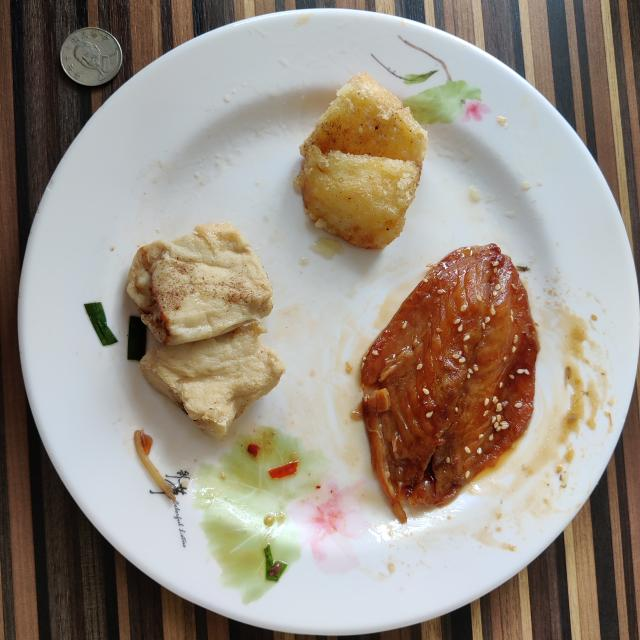Kabayaki sea bream fillet: (361, 244, 539, 522)
coin: (60, 28, 122, 86)
creamy tofu -without sauce-: (128, 222, 285, 436)
fried potato: (294, 72, 428, 249)
